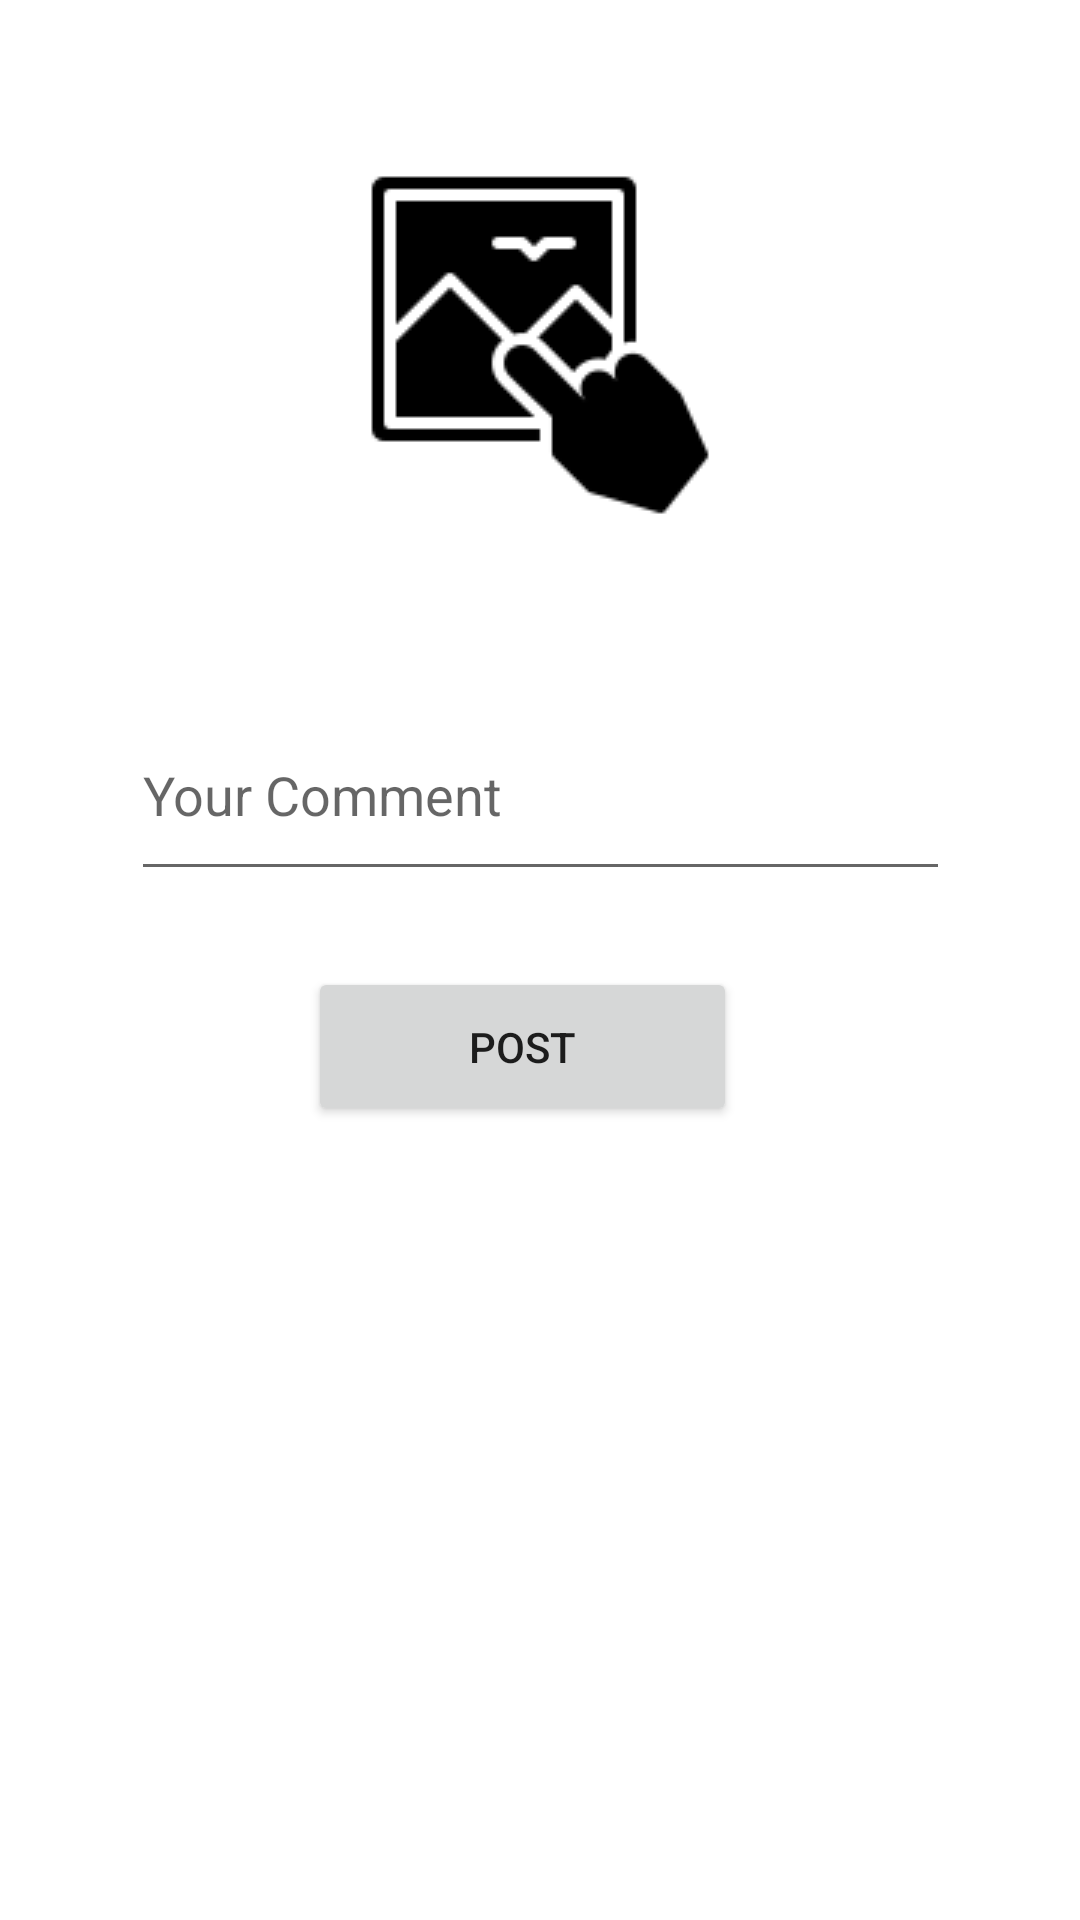

Icons on this 1080 x 1920 Android screen, each with its box as box(x1, y1, x2, y2):
selectedimagee: box(371, 176, 709, 514)
